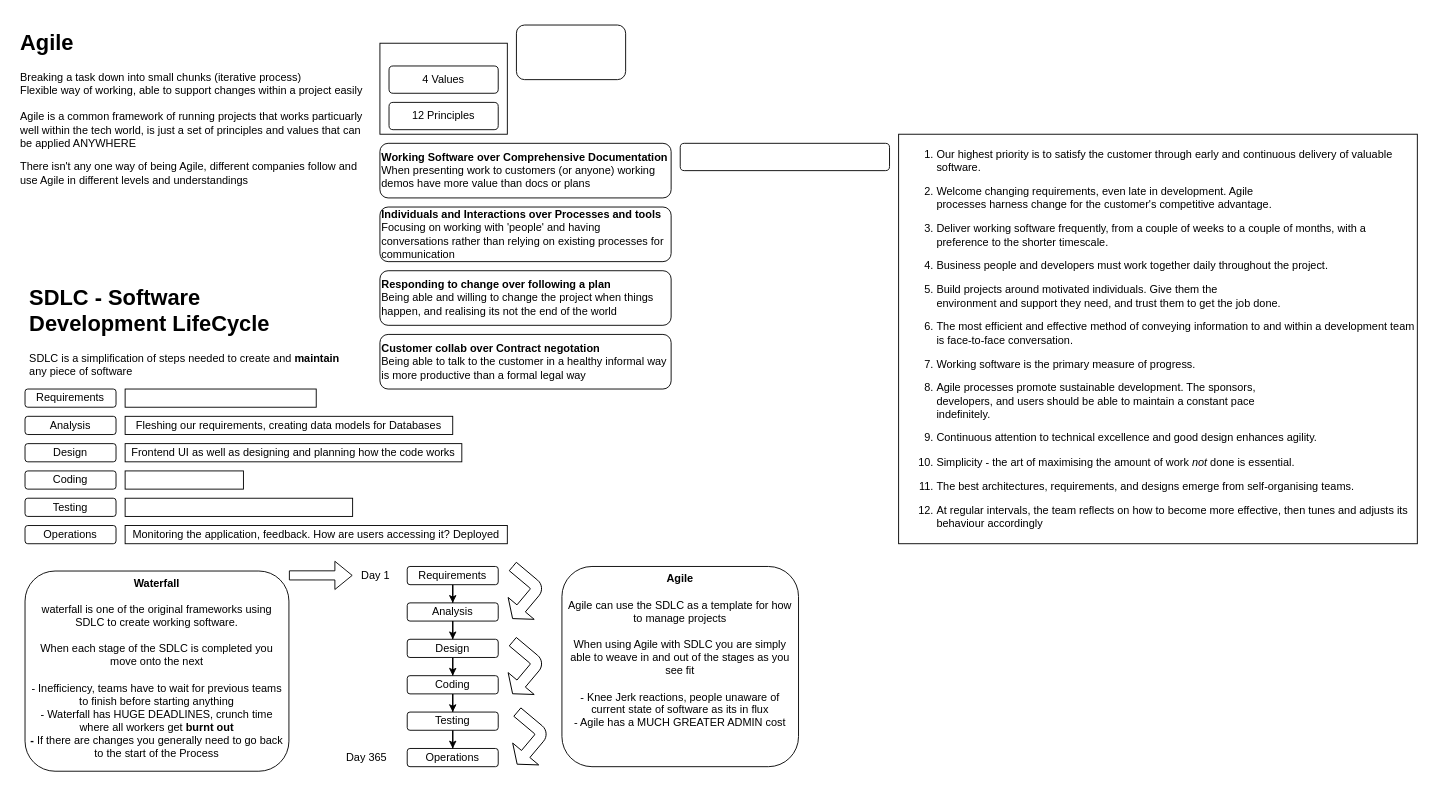
The diagram is 1433 pixels wide and 791 high, and some of its shapes have lost their labels. Each missing label, with the box of its shape:
Agile: (379, 42, 507, 134)
Agile is just a manifesto of 4 values and 12 principles: (516, 24, 626, 80)
Automated Testing + Non Functional testing: (124, 497, 353, 516)
Creating the software: (124, 470, 243, 489)
Simplicity - The art of maximising the amount of work not done is essential: (679, 142, 890, 171)
What is needed to create the software: (124, 388, 316, 407)
